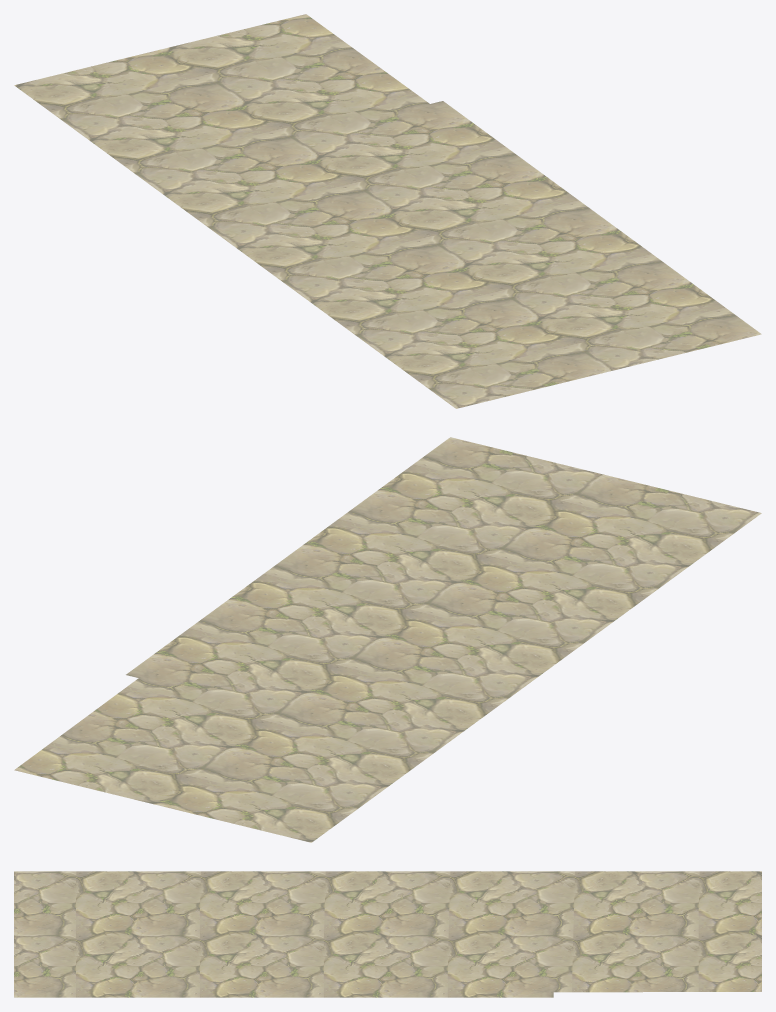
The picture shows the model from 3 angles, top to bottom: view 1: azimuth 30°, elevation 25°; view 2: azimuth 150°, elevation 25°; view 3: azimuth 270°, elevation 25°; orthographic projection. The views are drawn at different scales.
Parts seen in each view (by area): view 1: lu2; view 2: lu2; view 3: lu2.
Boxes of the visible parts, left/top/right/bottom form: lu2: left=14, top=14, right=761, bottom=408; lu2: left=14, top=437, right=761, bottom=842; lu2: left=14, top=871, right=761, bottom=997.
Size of the model in its own units: 4.15 by 6.35e-16 by 10.38.
